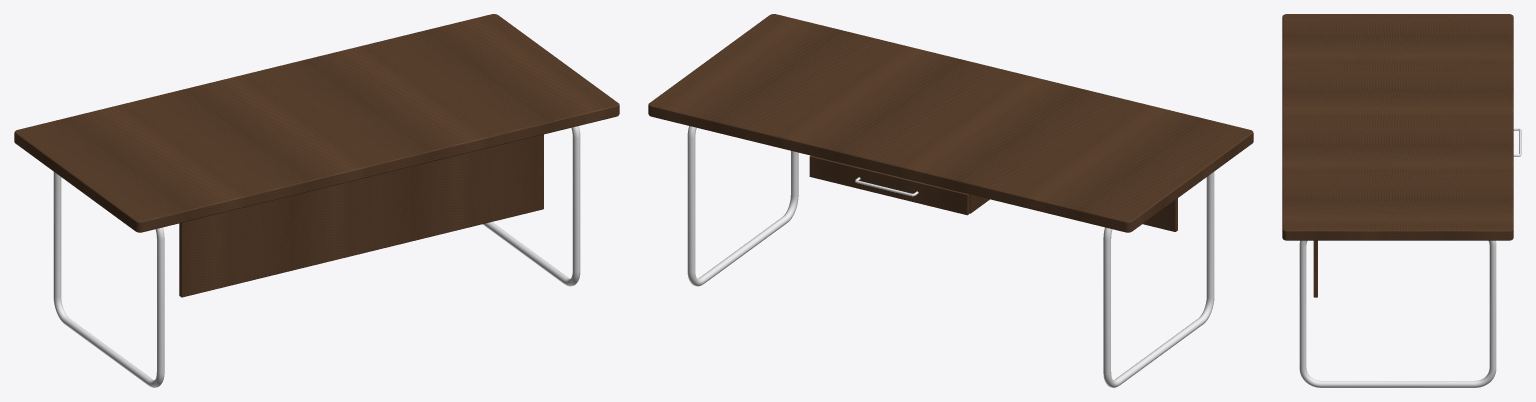
Rendered from desk.glb.
3 views of the same model, side by side, from view 1: azimuth 30°, elevation 25°; view 2: azimuth 150°, elevation 25°; view 3: azimuth 270°, elevation 25° (orthographic). The views are drawn at different scales.
Visible parts, largest first — view 1: Desk_Top, Desk_ModestyPanel, Desk_Frame_L, Desk_Frame_R; view 2: Desk_Top, Desk_Frame_L, Desk_Drawer_Front, Desk_Frame_R, Desk_ModestyPanel; view 3: Desk_Top, Desk_Frame_R, Desk_ModestyPanel.
Part boxes in pixels (x1,y1,x2,y2): Desk_Top: (14,14,619,232); Desk_ModestyPanel: (179,134,543,297); Desk_Frame_L: (53,172,164,387); Desk_Frame_R: (483,126,580,286); Desk_Top: (648,14,1253,232); Desk_Frame_L: (1103,172,1214,387); Desk_Drawer_Front: (809,155,969,215); Desk_Frame_R: (687,126,798,286); Desk_ModestyPanel: (1143,198,1177,231); Desk_Top: (1282,14,1513,240); Desk_Frame_R: (1299,240,1496,387); Desk_ModestyPanel: (1313,240,1317,297).
Size of the model in its own units: 2 by 0.7393 by 0.931.
2 materials, 1 textured.
